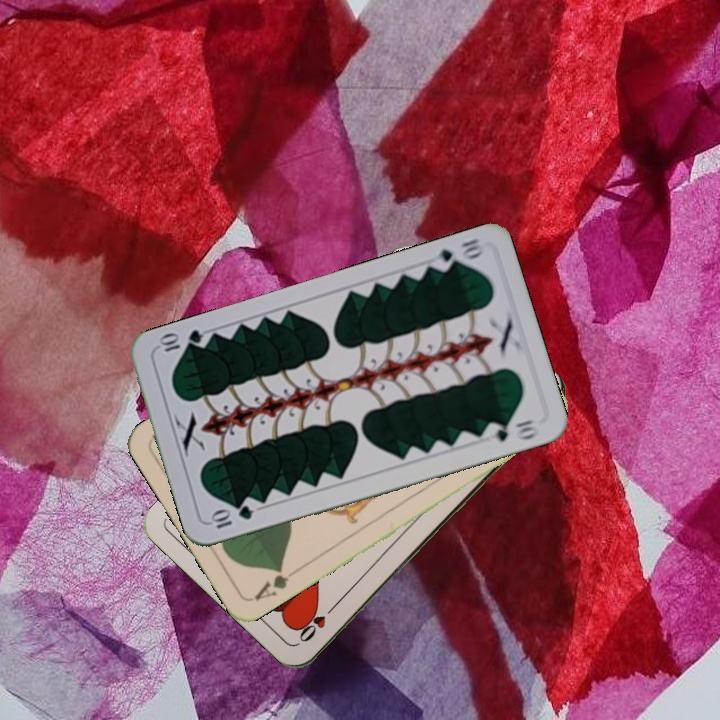G10: (428, 235, 486, 274), (207, 501, 256, 532)
GA: (249, 563, 301, 604)
HO: (295, 599, 340, 645)
